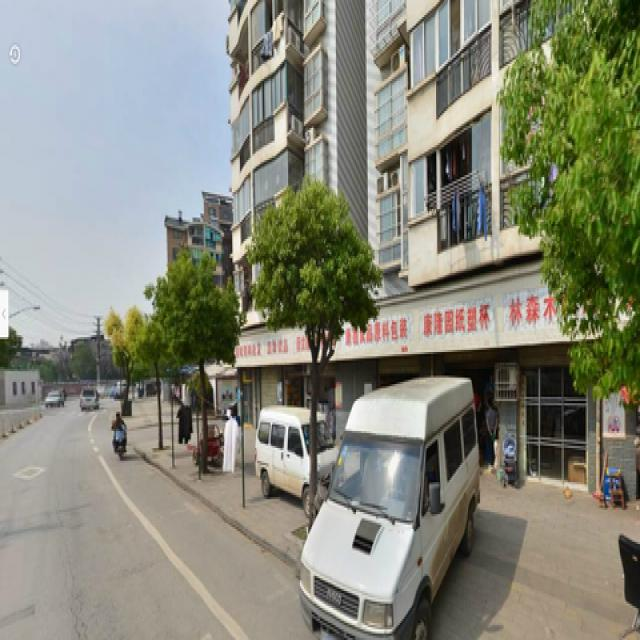cinn: (258, 196, 370, 510)
